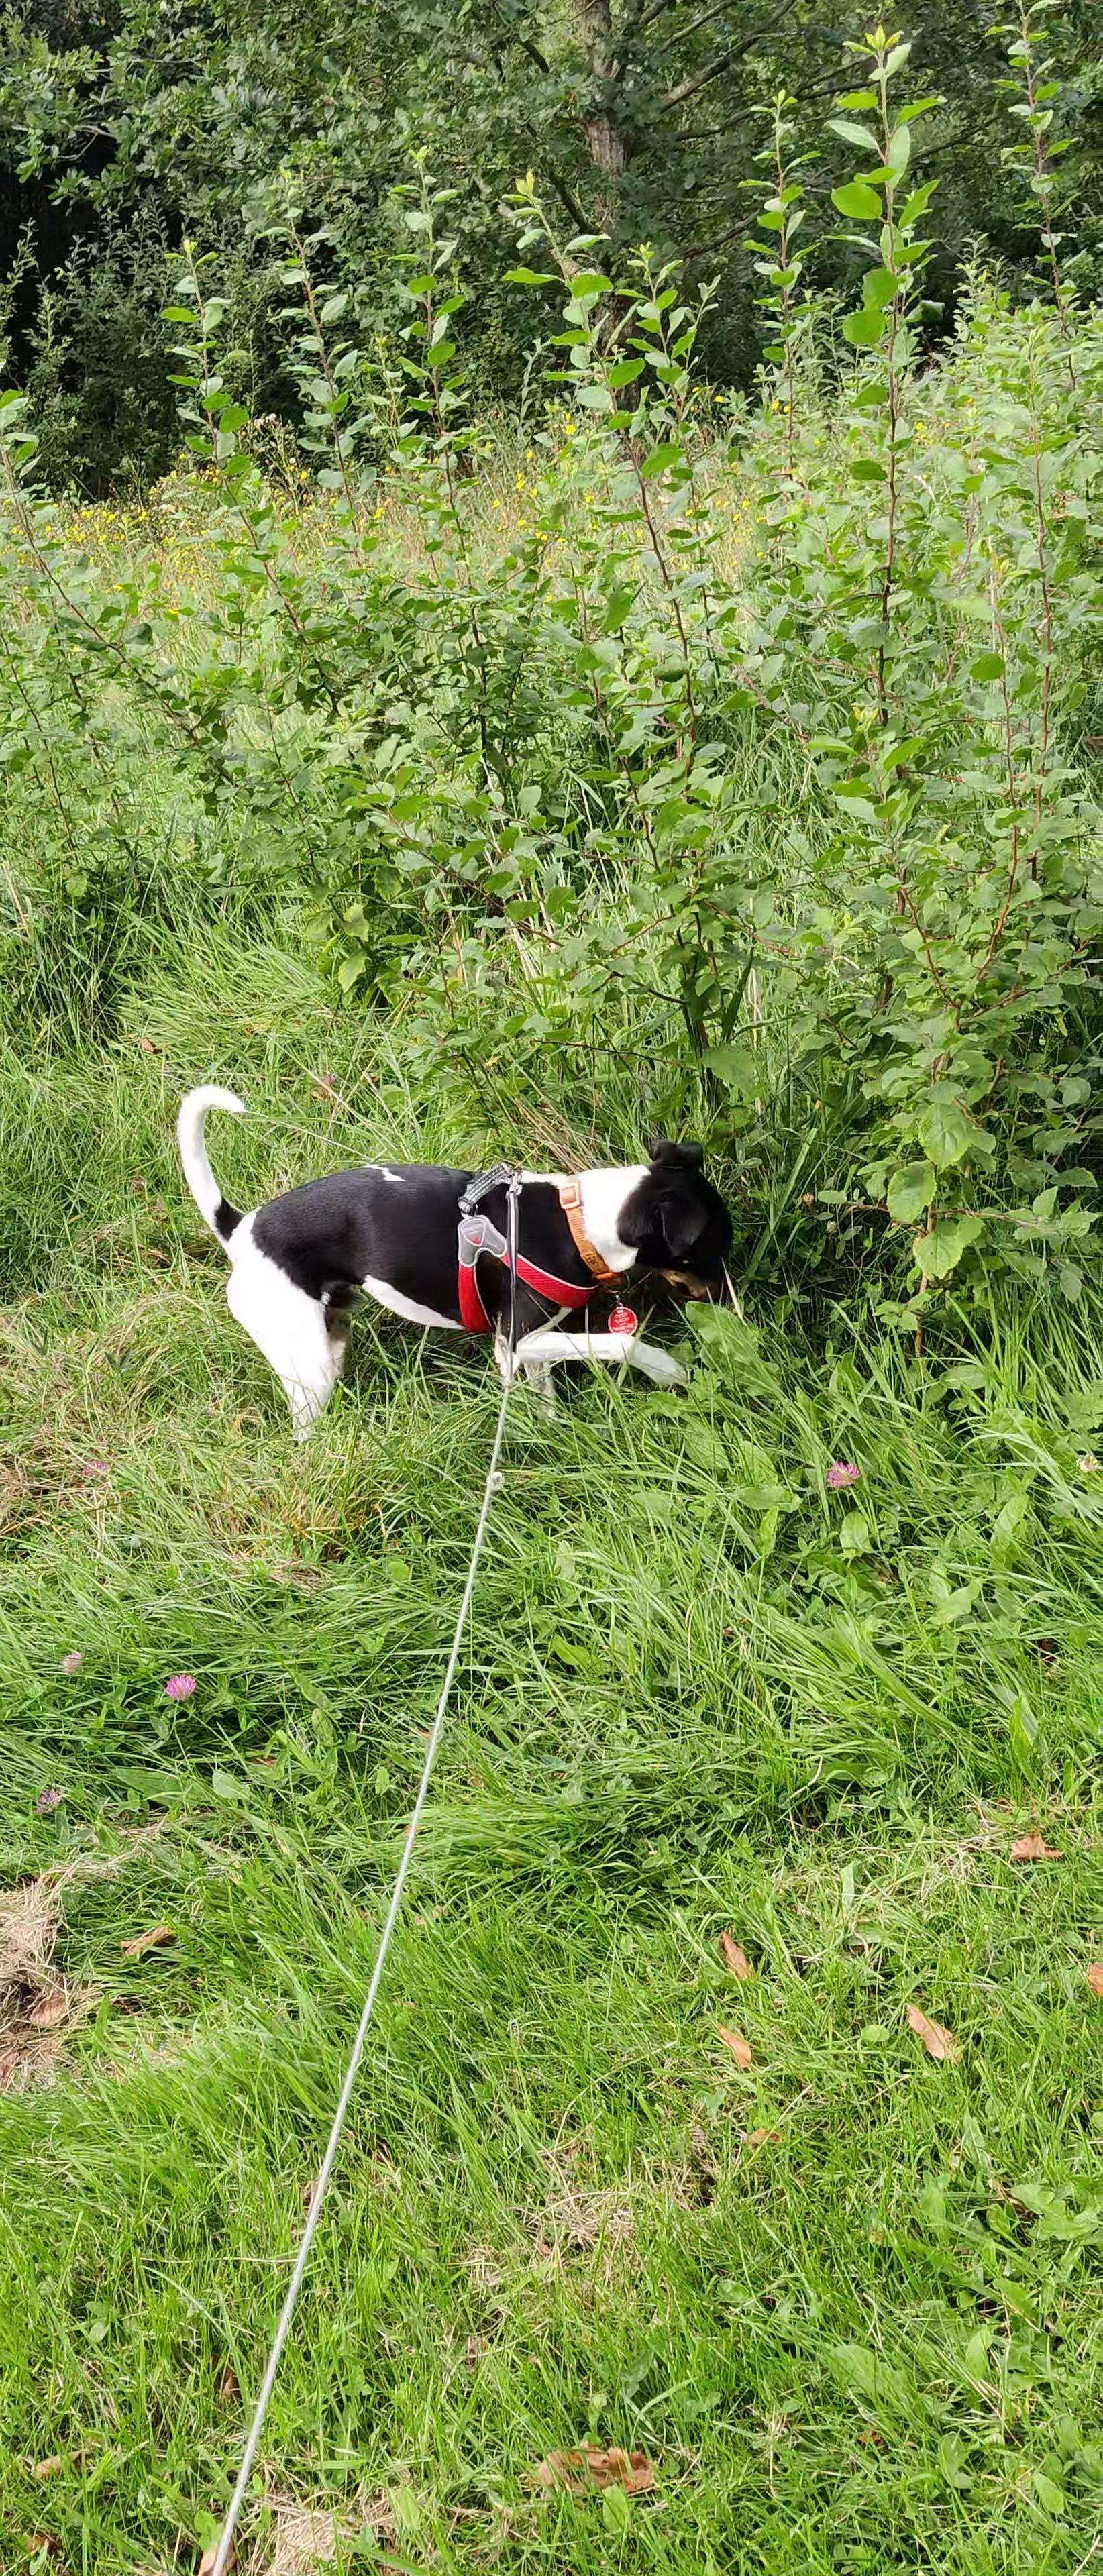Dog: (163, 1068, 763, 1423)
